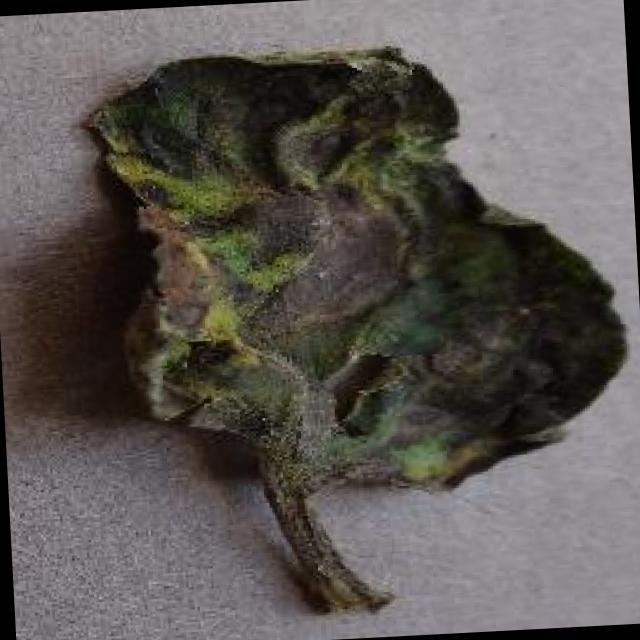Tomato_Early_Blight: (59, 2, 636, 542)
